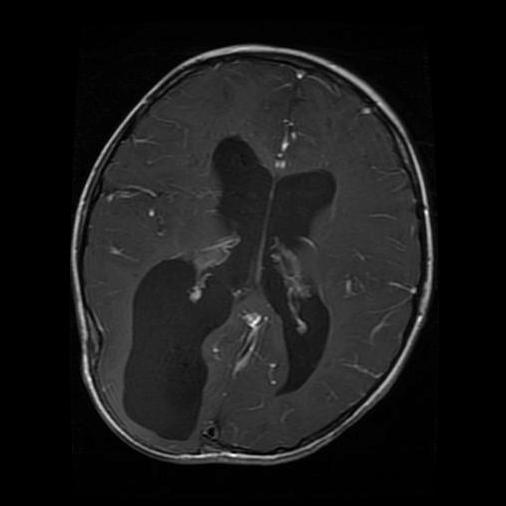Tumour-Glioma: (91, 348, 226, 429)
